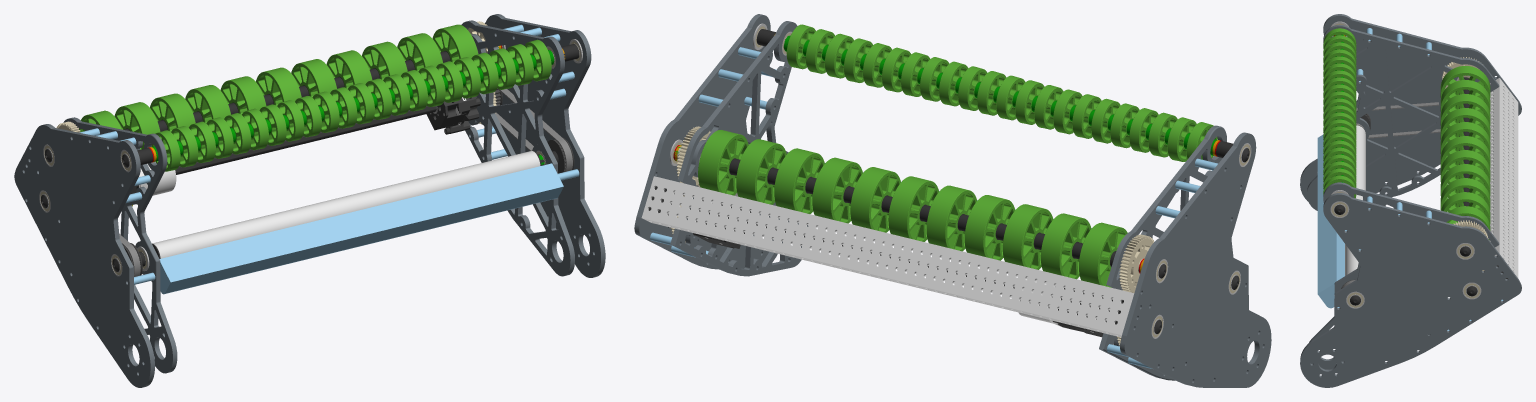
The model's file is Slapdown zeroed.glb.
3 views of the same model, side by side, from view 1: azimuth 30°, elevation 25°; view 2: azimuth 150°, elevation 25°; view 3: azimuth 270°, elevation 25° (orthographic). The views are drawn at different scales.
Parts seen in each view (by area): view 1: slapdown (×3), 2" Compliant Wheel (35A, 3/4" Wide, 1/2" Hex Stretch Bore) (×22), Part 1 (×3), slapdown-Mirrored (×2), 3" Compliant Wheel (35A, 1" Wide, 1/2" Hex Bore) (×10), roller, 1/2" Rounded Hex (19.125"L 13.75mm OD), 100T HTD Belt, MAXPlanetary Input Slice; view 2: slapdown (×3), 3" Compliant Wheel (35A, 1" Wide, 1/2" Hex Bore) (×11), 2" x 1" x 0.125" Aluminum Box Tube (25.25" L, Full Pattern, , 2" Compliant Wheel (35A, 3/4" Wide, 1/2" Hex Stretch Bore) (×21), slapdown-Mirrored (×2), 54t Aluminum Spur Gear (20 DP, 1/2" Hex Bore, VersaKeys); view 3: slapdown-Mirrored (×2), slapdown (×3), 3" Compliant Wheel (35A, 1" Wide, 1/2" Hex Bore) (×11), 2" Compliant Wheel (35A, 3/4" Wide, 1/2" Hex Stretch Bore) (×22), 2" x 1" x 0.125" Aluminum Box Tube (25.25" L, Full Pattern, , Part 1 (×3), roller, 100T HTD Belt.
Part boxes in pixels (<box>): slapdown (×3): <box>14,20,574,387</box>; 2" Compliant Wheel (35A, 3/4" Wide, 1/2" Hex Stretch Bore) (×22): <box>152,39,551,171</box>; Part 1 (×3): <box>159,163,563,294</box>; slapdown-Mirrored (×2): <box>461,14,605,277</box>; 3" Compliant Wheel (35A, 1" Wide, 1/2" Hex Bore) (×10): <box>114,24,478,149</box>; roller: <box>152,151,540,258</box>; 1/2" Rounded Hex (19.125"L 13.75mm OD): <box>175,105,436,174</box>; 100T HTD Belt: <box>495,88,572,171</box>; MAXPlanetary Input Slice: <box>426,101,458,133</box>; slapdown (×3): <box>670,21,1271,387</box>; 3" Compliant Wheel (35A, 1" Wide, 1/2" Hex Bore) (×11): <box>698,130,1127,287</box>; 2" x 1" x 0.125" Aluminum Box Tube (25.25" L, Full Pattern, : <box>641,176,1134,337</box>; 2" Compliant Wheel (35A, 3/4" Wide, 1/2" Hex Stretch Bore) (×21): <box>786,24,1196,161</box>; slapdown-Mirrored (×2): <box>634,14,808,276</box>; 54t Aluminum Spur Gear (20 DP, 1/2" Hex Bore, VersaKeys): <box>1119,234,1154,292</box>; slapdown-Mirrored (×2): <box>1300,182,1521,387</box>; slapdown (×3): <box>1300,14,1521,369</box>; 3" Compliant Wheel (35A, 1" Wide, 1/2" Hex Bore) (×11): <box>1440,66,1490,239</box>; 2" Compliant Wheel (35A, 3/4" Wide, 1/2" Hex Stretch Bore) (×22): <box>1323,28,1356,198</box>; 2" x 1" x 0.125" Aluminum Box Tube (25.25" L, Full Pattern, : <box>1489,78,1518,277</box>; Part 1 (×3): <box>1317,134,1344,308</box>; roller: <box>1345,125,1365,275</box>; 100T HTD Belt: <box>1356,102,1440,138</box>.
Size of the model in its own units: 0.6617 by 0.3265 by 0.3392.
